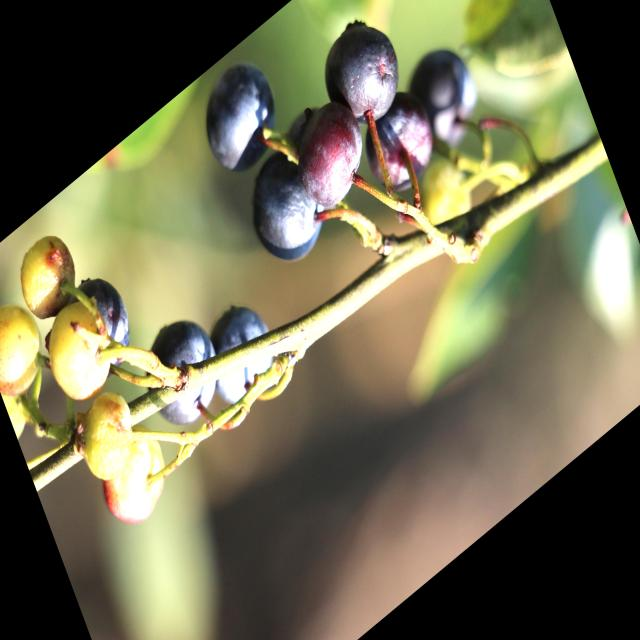blueberry: (126, 288, 236, 455), (188, 41, 296, 195), (309, 0, 416, 153), (235, 136, 334, 290), (194, 285, 290, 427), (288, 83, 382, 226), (396, 24, 488, 164), (356, 83, 447, 212), (64, 251, 147, 391)
blueberry-unripe: (41, 288, 118, 414), (96, 426, 176, 540), (69, 378, 145, 489), (12, 223, 84, 331), (0, 294, 47, 403)
